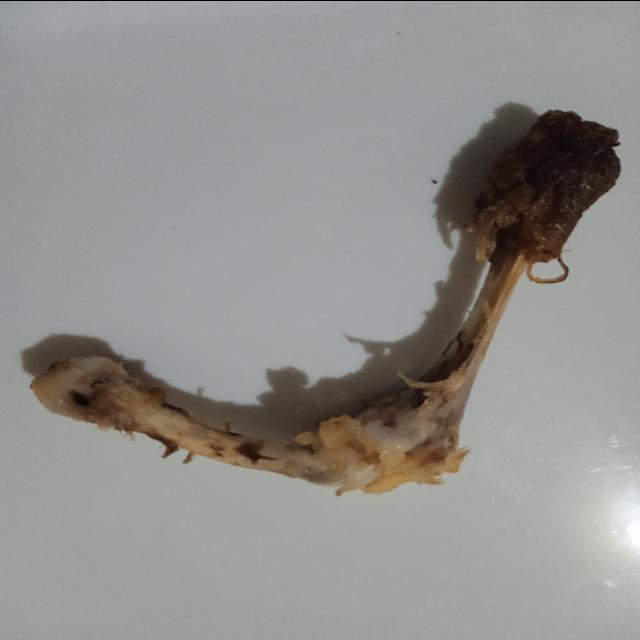bone: (18, 107, 628, 502)
